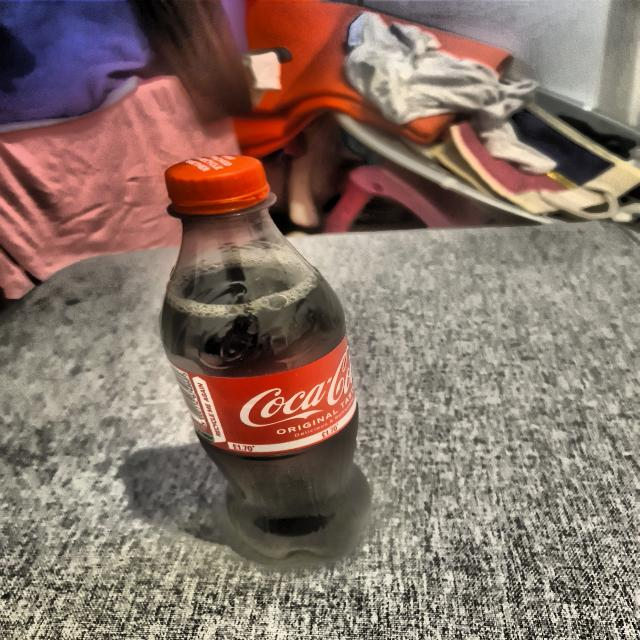coke-bottle: (161, 157, 385, 562)
